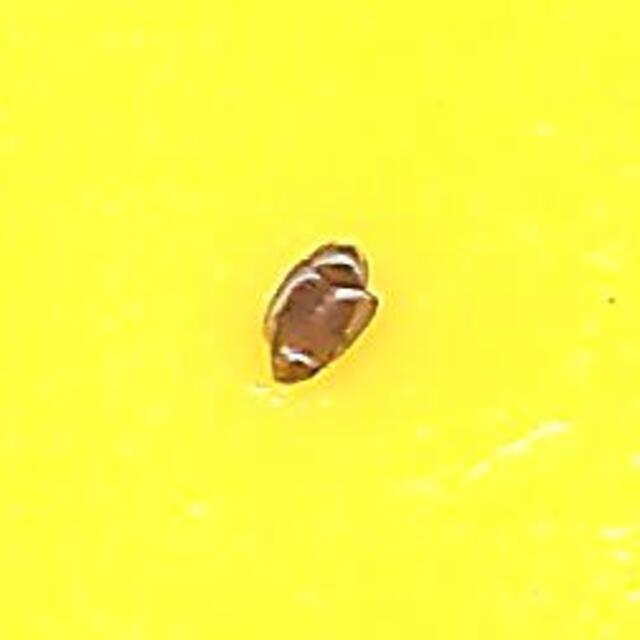Coleoptera: (254, 242, 386, 398)
